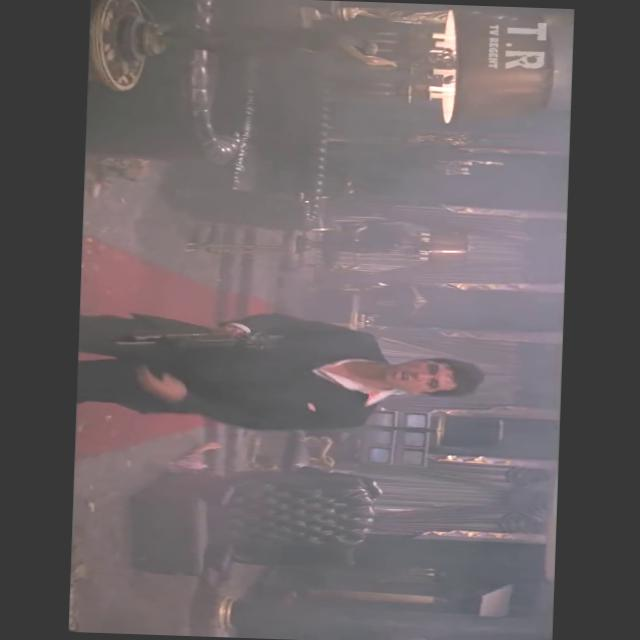long weapon: (88, 315, 300, 369)
